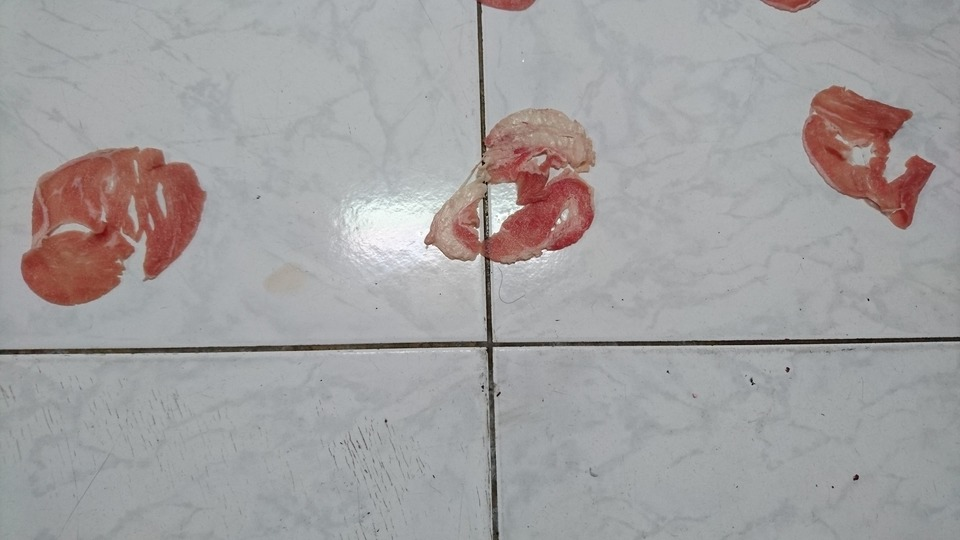restructured meat: (20, 141, 207, 303), (418, 108, 599, 258), (762, 79, 943, 229)
